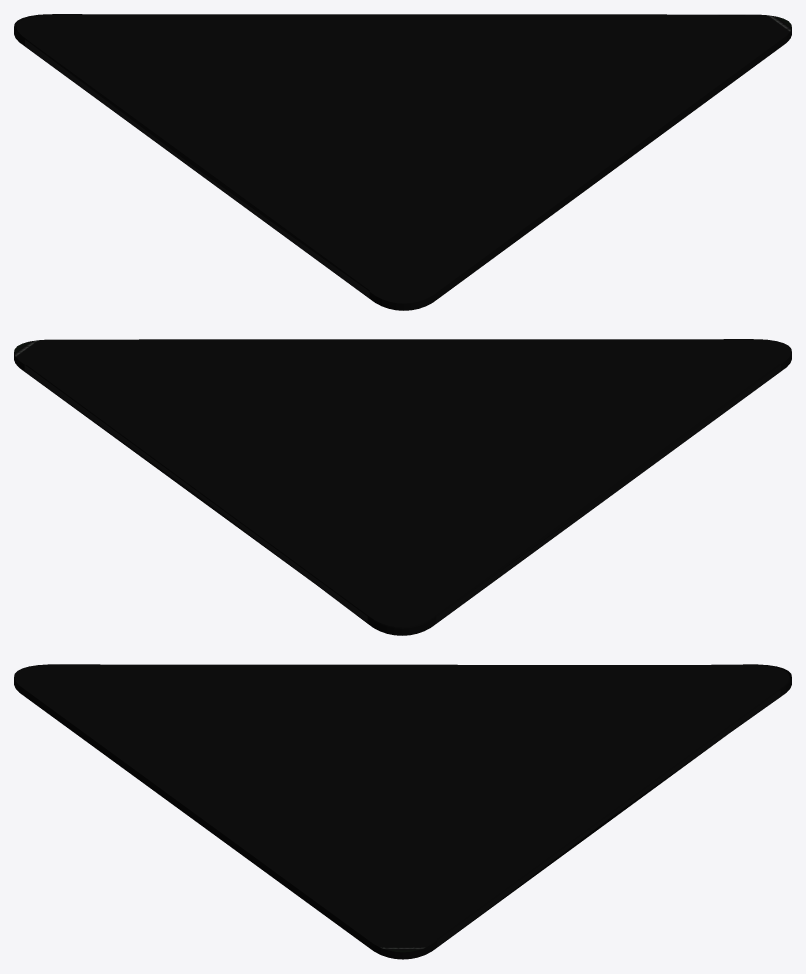
3 renders of one model, top to bottom at view 1: azimuth 30°, elevation 25°; view 2: azimuth 150°, elevation 25°; view 3: azimuth 270°, elevation 25°, orthographic.
Parts seen in each view (by area): view 1: Cube.003; view 2: Cube.003; view 3: Cube.003.
Part boxes in pixels (box(x1,y1,x2,y2)): Cube.003: box(14, 14, 791, 310); Cube.003: box(14, 339, 791, 635); Cube.003: box(14, 664, 791, 959).
Size of the model in its own units: 0.0743 by 0.000864 by 0.0849.
Materials: 1 (1 with a texture image).
